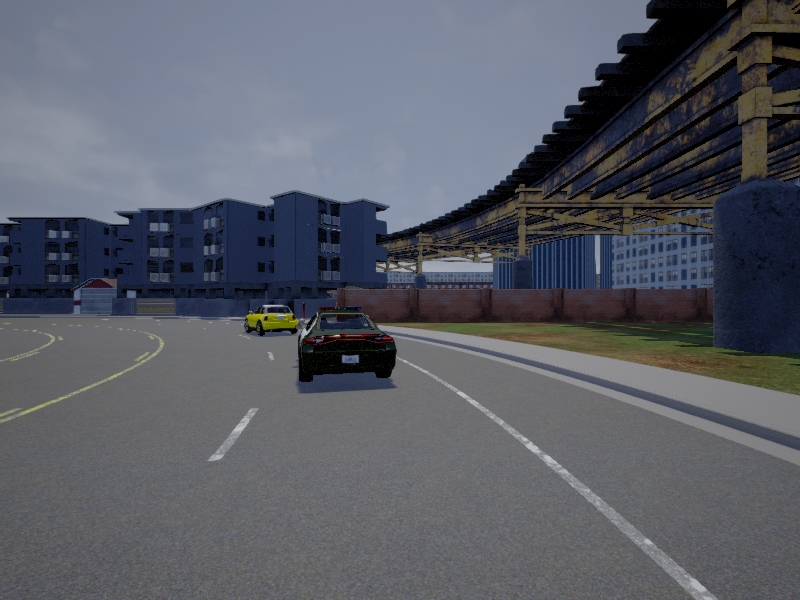Benign: (298, 307, 397, 381), (243, 304, 298, 335)
